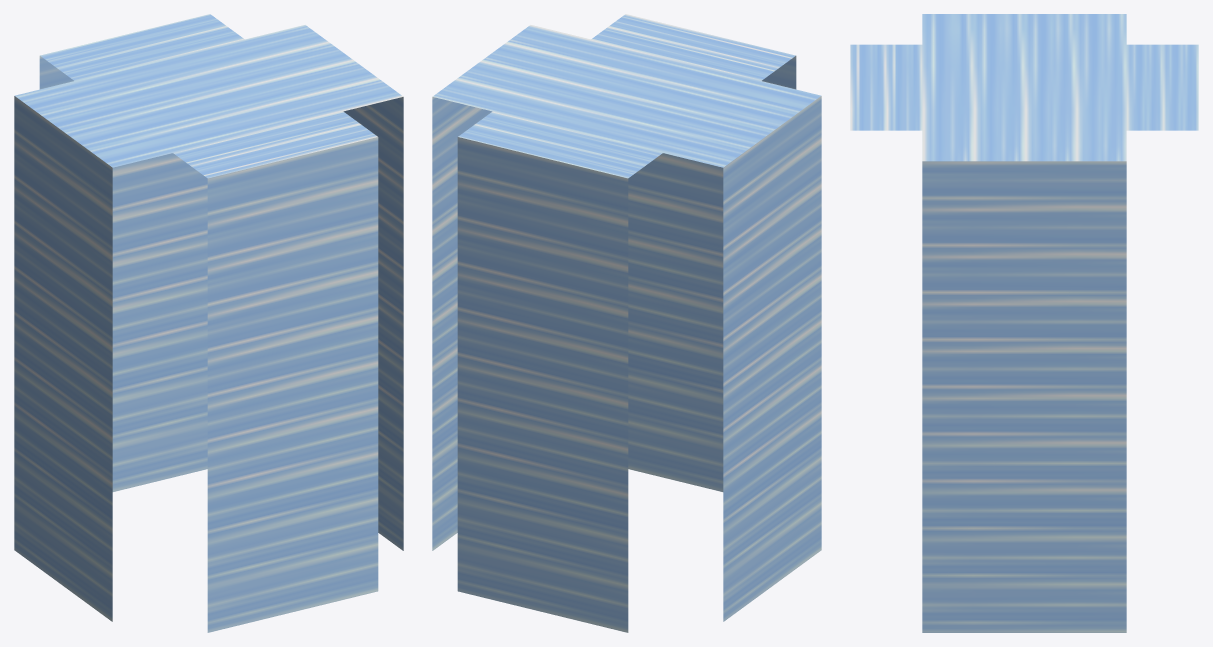
The model's file is reservoir_fluid3of4.obj.
3 views of the same model, side by side, from view 1: azimuth 30°, elevation 25°; view 2: azimuth 150°, elevation 25°; view 3: azimuth 270°, elevation 25° (orthographic). The views are drawn at different scales.
Parts seen in each view (by area): view 1: FLUID_3OF4_Cylinder.002; view 2: FLUID_3OF4_Cylinder.002; view 3: FLUID_3OF4_Cylinder.002.
Boxes of the visible parts, box(x1,y1,x2,y2) form: FLUID_3OF4_Cylinder.002: box(14, 14, 403, 632); FLUID_3OF4_Cylinder.002: box(432, 14, 821, 632); FLUID_3OF4_Cylinder.002: box(850, 14, 1198, 632).
Size of the model in its own units: 0.1797 by 0.2682 by 0.1797.
